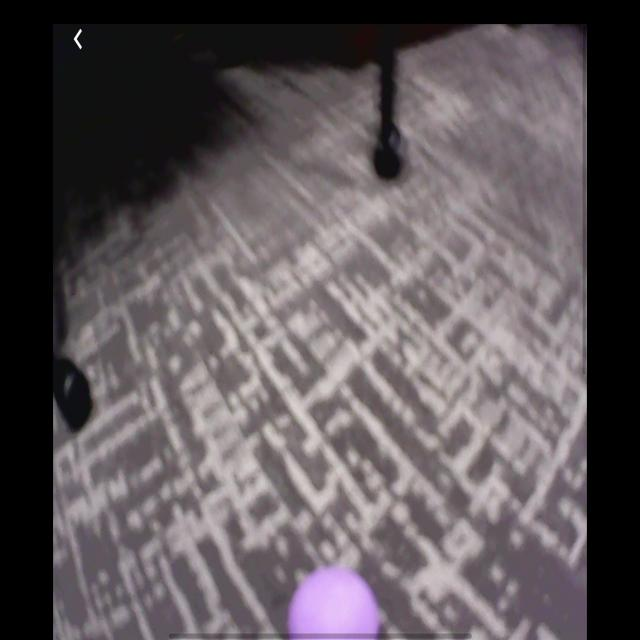ball: (290, 573, 379, 640)
